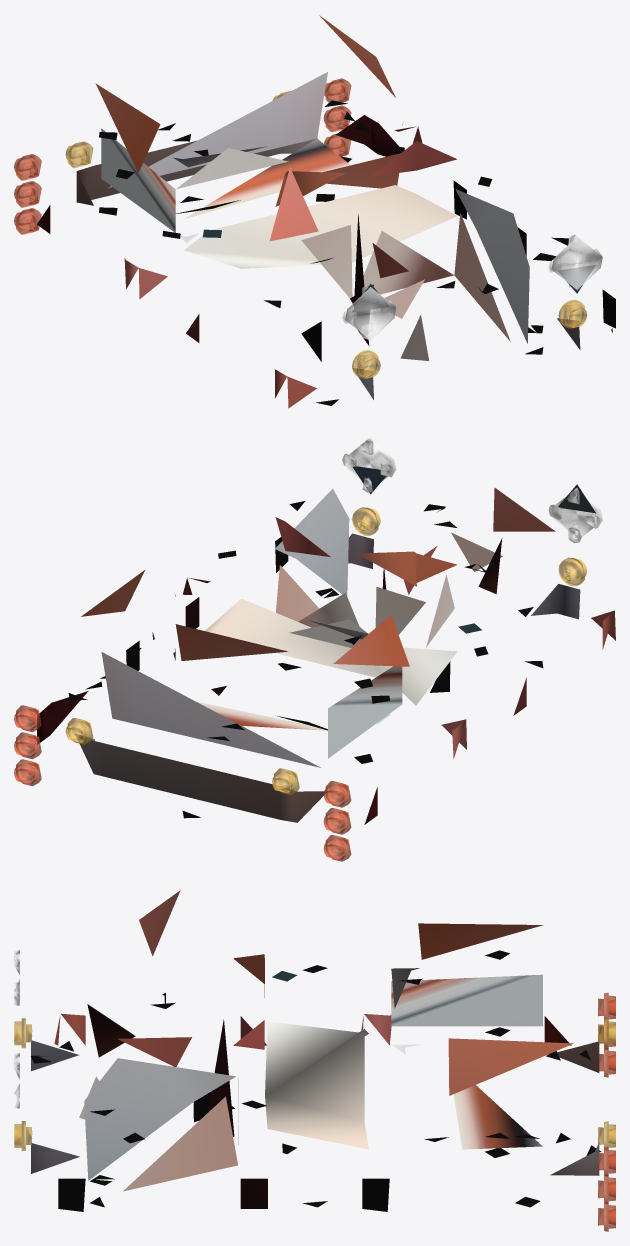
Rendered from dodgem_far.glb.
The picture shows the model from 3 angles, top to bottom: view 1: azimuth 30°, elevation 25°; view 2: azimuth 150°, elevation 25°; view 3: azimuth 270°, elevation 25°; orthographic projection. The views are drawn at different scales.
Visible parts, largest first — view 1: baked, clear; view 2: baked, clear; view 3: baked, clear.
Boxes of the visible parts, <box> form: baked: <box>37,15,615,408</box>; clear: <box>14,78,602,378</box>; baked: <box>37,466,615,824</box>; clear: <box>14,437,602,861</box>; baked: <box>31,890,601,1211</box>; clear: <box>14,950,615,1231</box>.
Size of the model in its own units: 258 by 155 by 396.
Materials: 4 (1 with a texture image).
